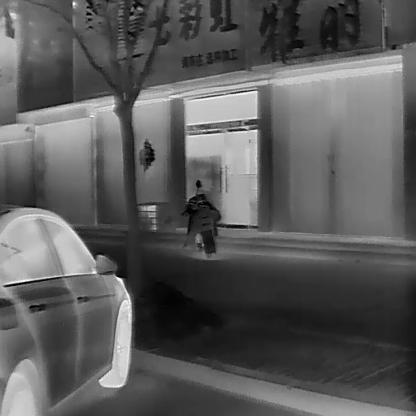car: (1, 201, 132, 415)
